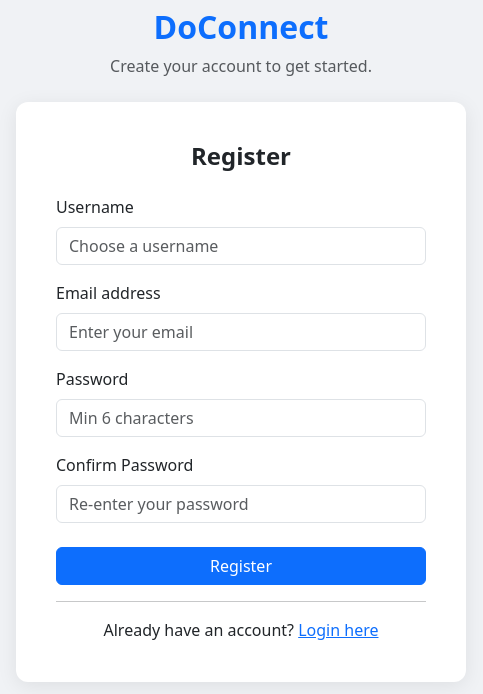
Test: Register Page › shows error when passwords do not match
Type "testuser" into the field with placeholder "Choose a username". click: (241, 246)
box: x1=56 y1=227 x2=426 y2=265
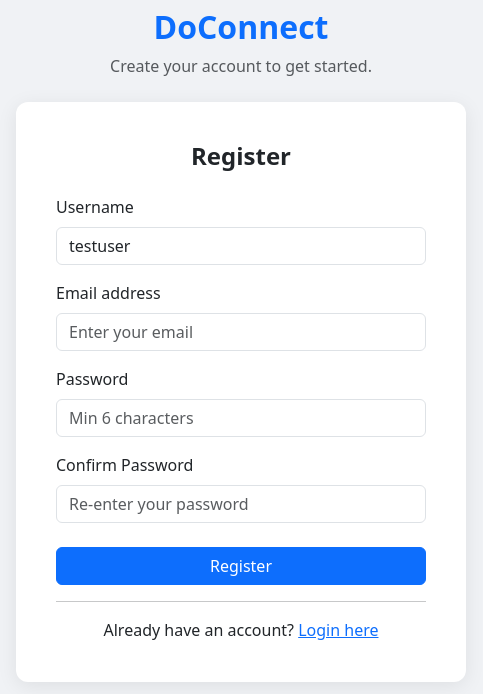
Type "test@test.com" into the field with placeholder "Enter your email". click: (241, 332)
box: x1=56 y1=313 x2=426 y2=351
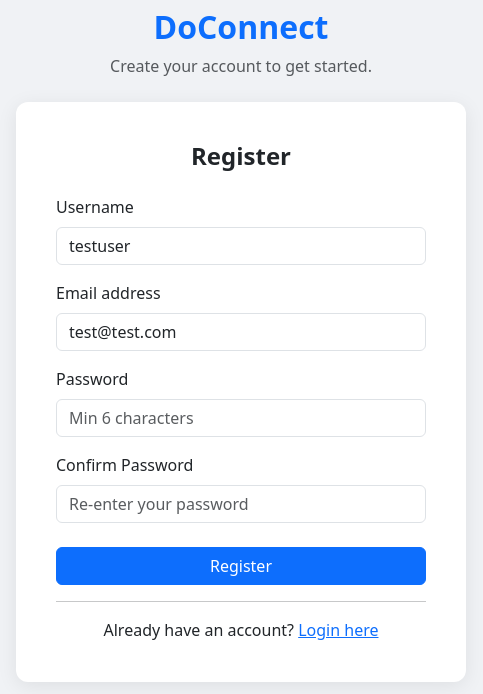
Type "password123" into the password field with placeholder "Min 6 characters". click: (241, 418)
box: x1=56 y1=399 x2=426 y2=437
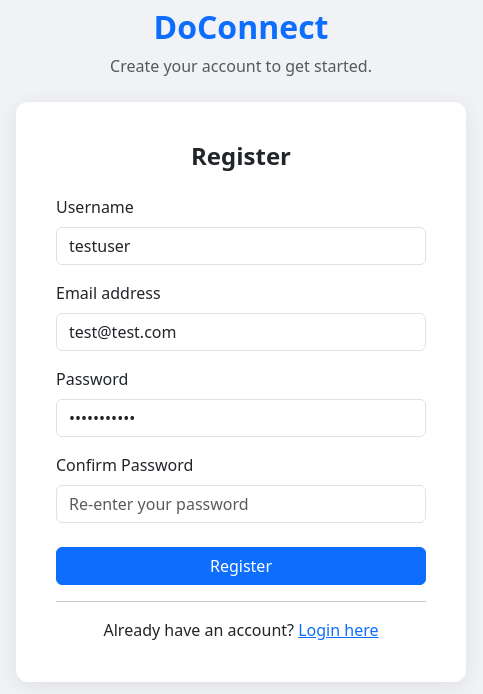
Type "differentpass" into the password field with placeholder "Re-enter your password". click: (241, 504)
box: x1=56 y1=485 x2=426 y2=523
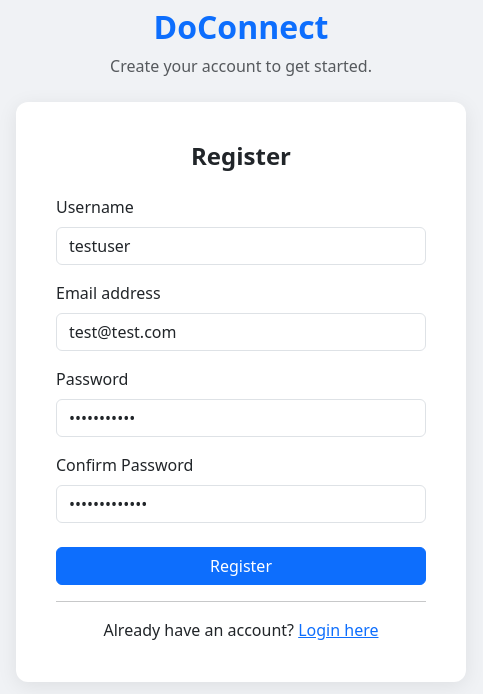
Click the button "Register". click: (241, 566)
box: x1=56 y1=547 x2=426 y2=585
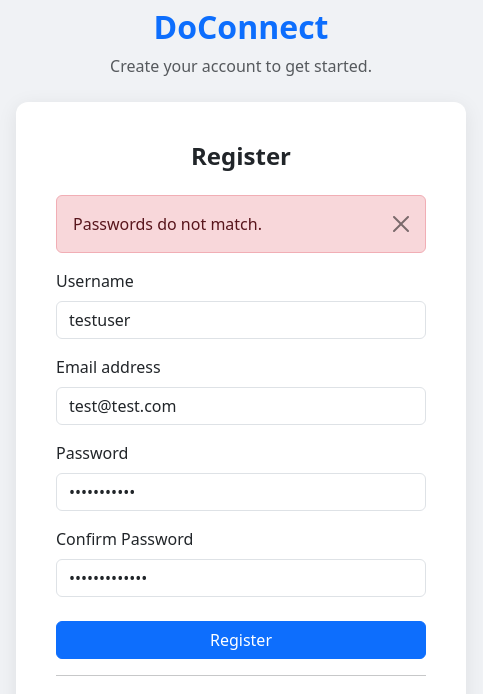
expect the text "Passwords do not match." is shown: met, box x1=56 y1=195 x2=426 y2=253
